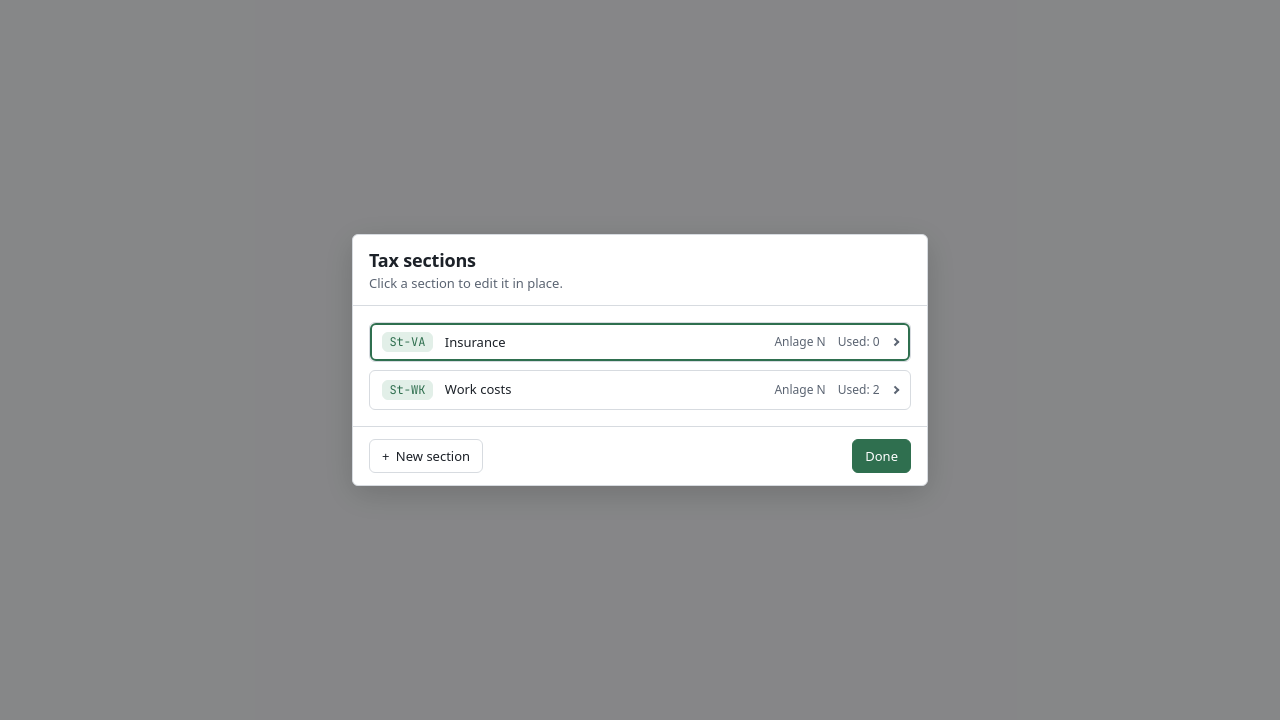
Test: TaxSectionDialogComponent › opens a row, saves the edit over the section it started from
Click the button with class "tax-sections__head" that starts with "St-WK".
click(407, 390)  # box x1=370 y1=371 x2=910 y2=409
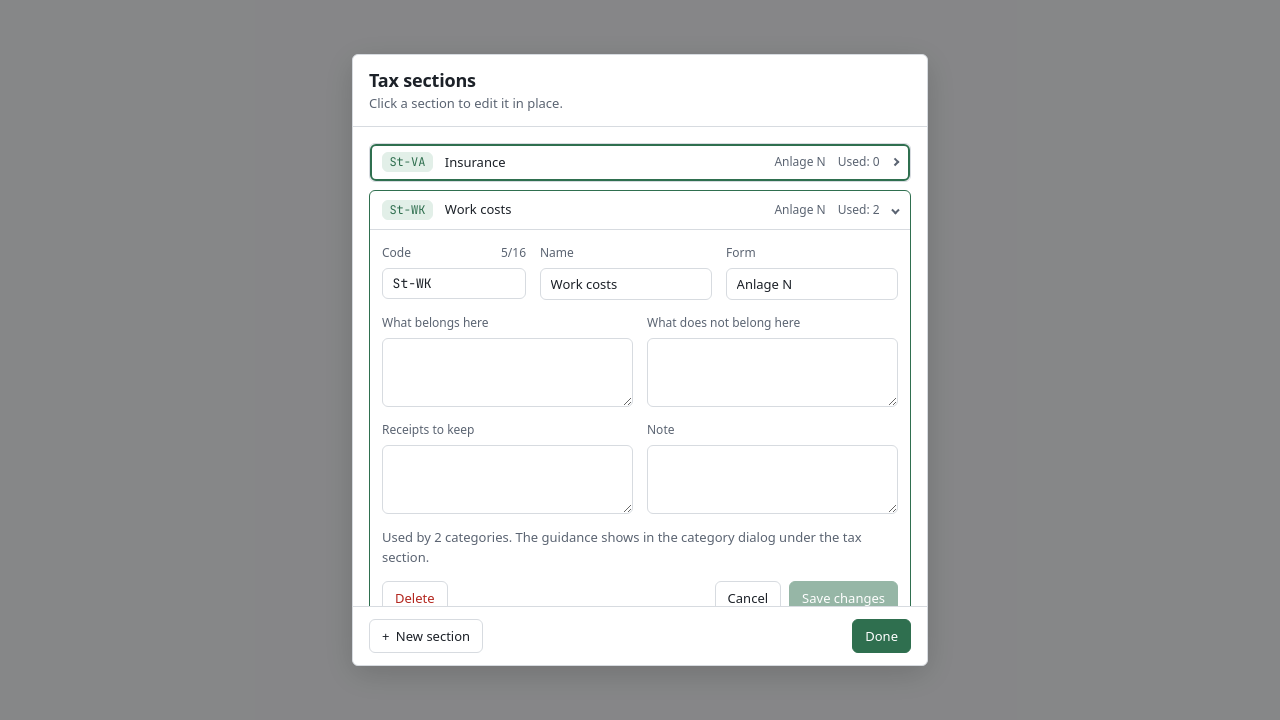
Expected: the button with class "tax-sections__head" is expanded, x1=370 y1=191 x2=910 y2=229
Expected: the element that starts with "Tax sections" shows "Used by 2 categories.", x1=382 y1=528 x2=516 y2=546
Expected: the button "Save changes" is disabled, x1=789 y1=581 x2=898 y2=606
Replace the text in the field labelled "Name" with "Work expenses" at (626, 284), box x1=540 y1=268 x2=712 y2=300
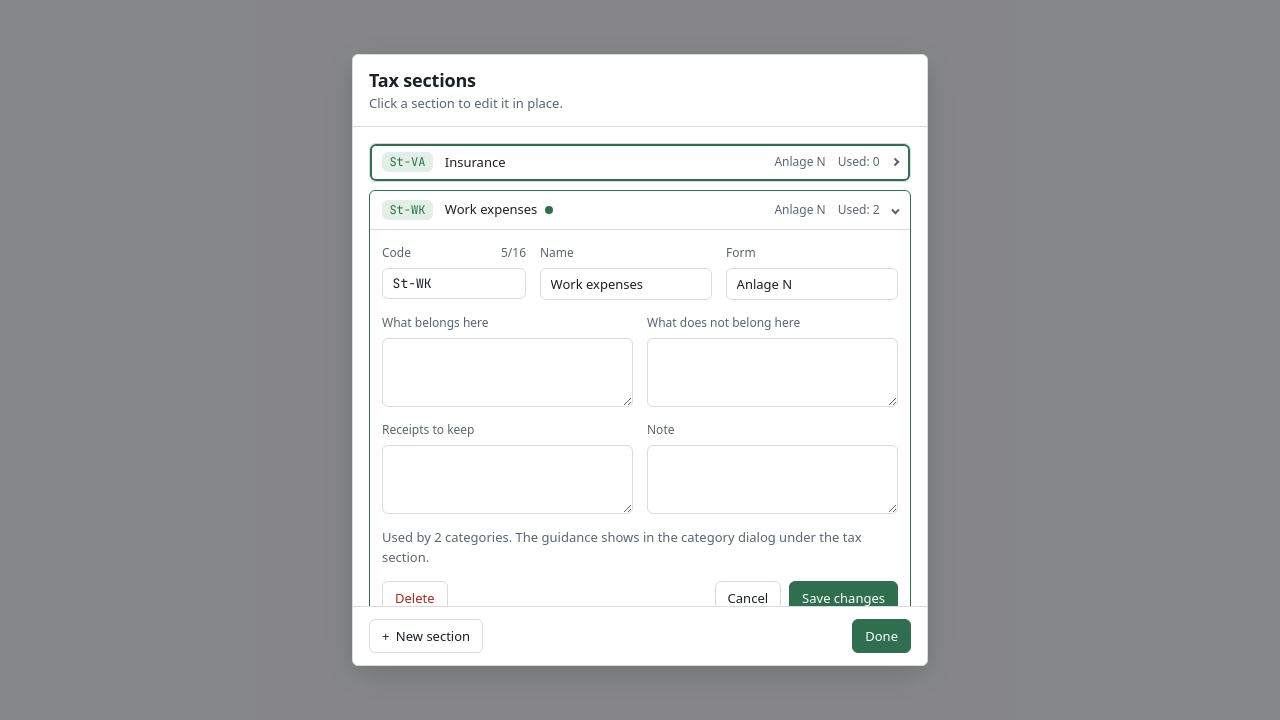
Type "Keep it short" into the text box labelled "Note".
click(772, 480); type("Keep it short")  # box x1=647 y1=445 x2=898 y2=514
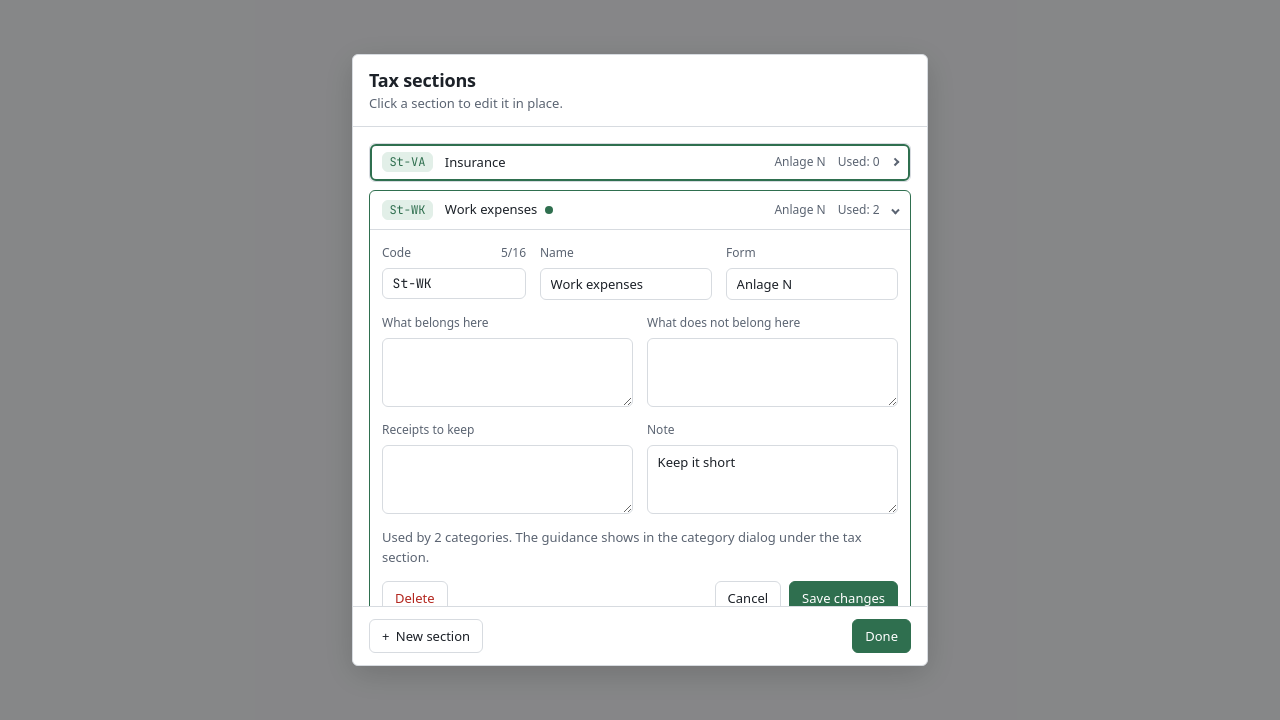
Click the button "Save changes".
click(844, 598)  # box x1=789 y1=581 x2=898 y2=615
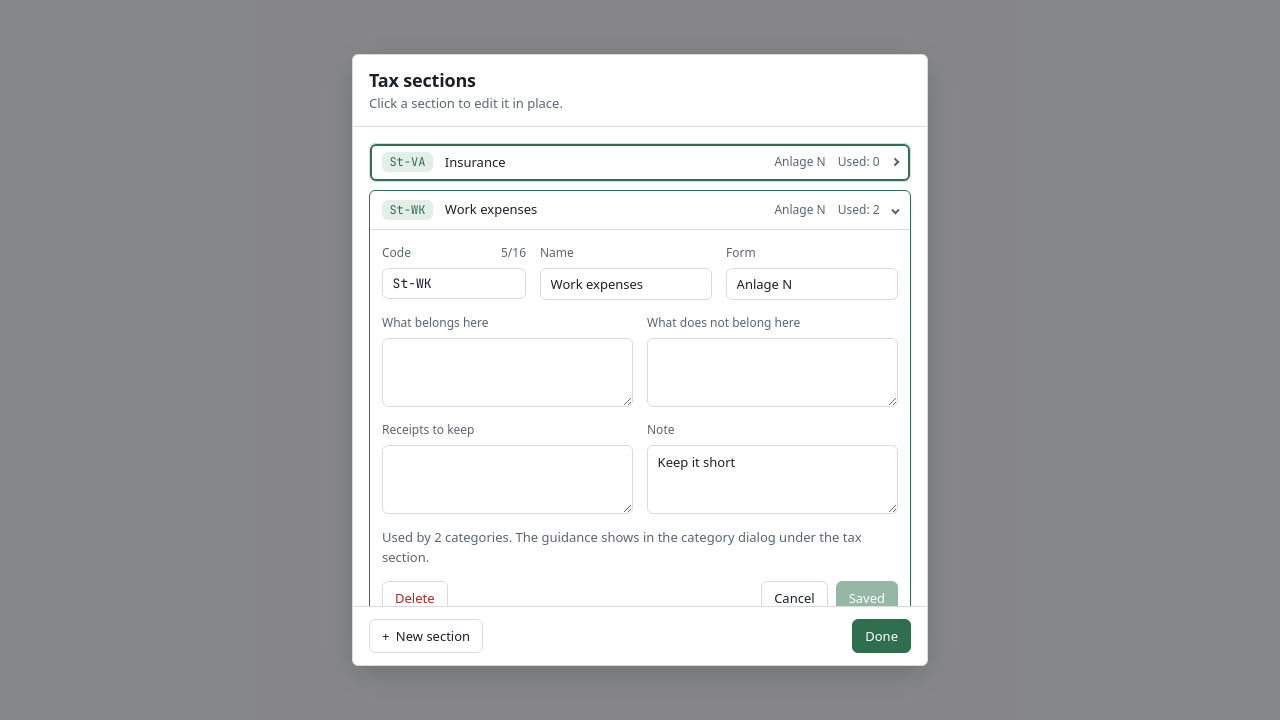
Expected: the button "Saved" is disabled, x1=836 y1=581 x2=898 y2=606
